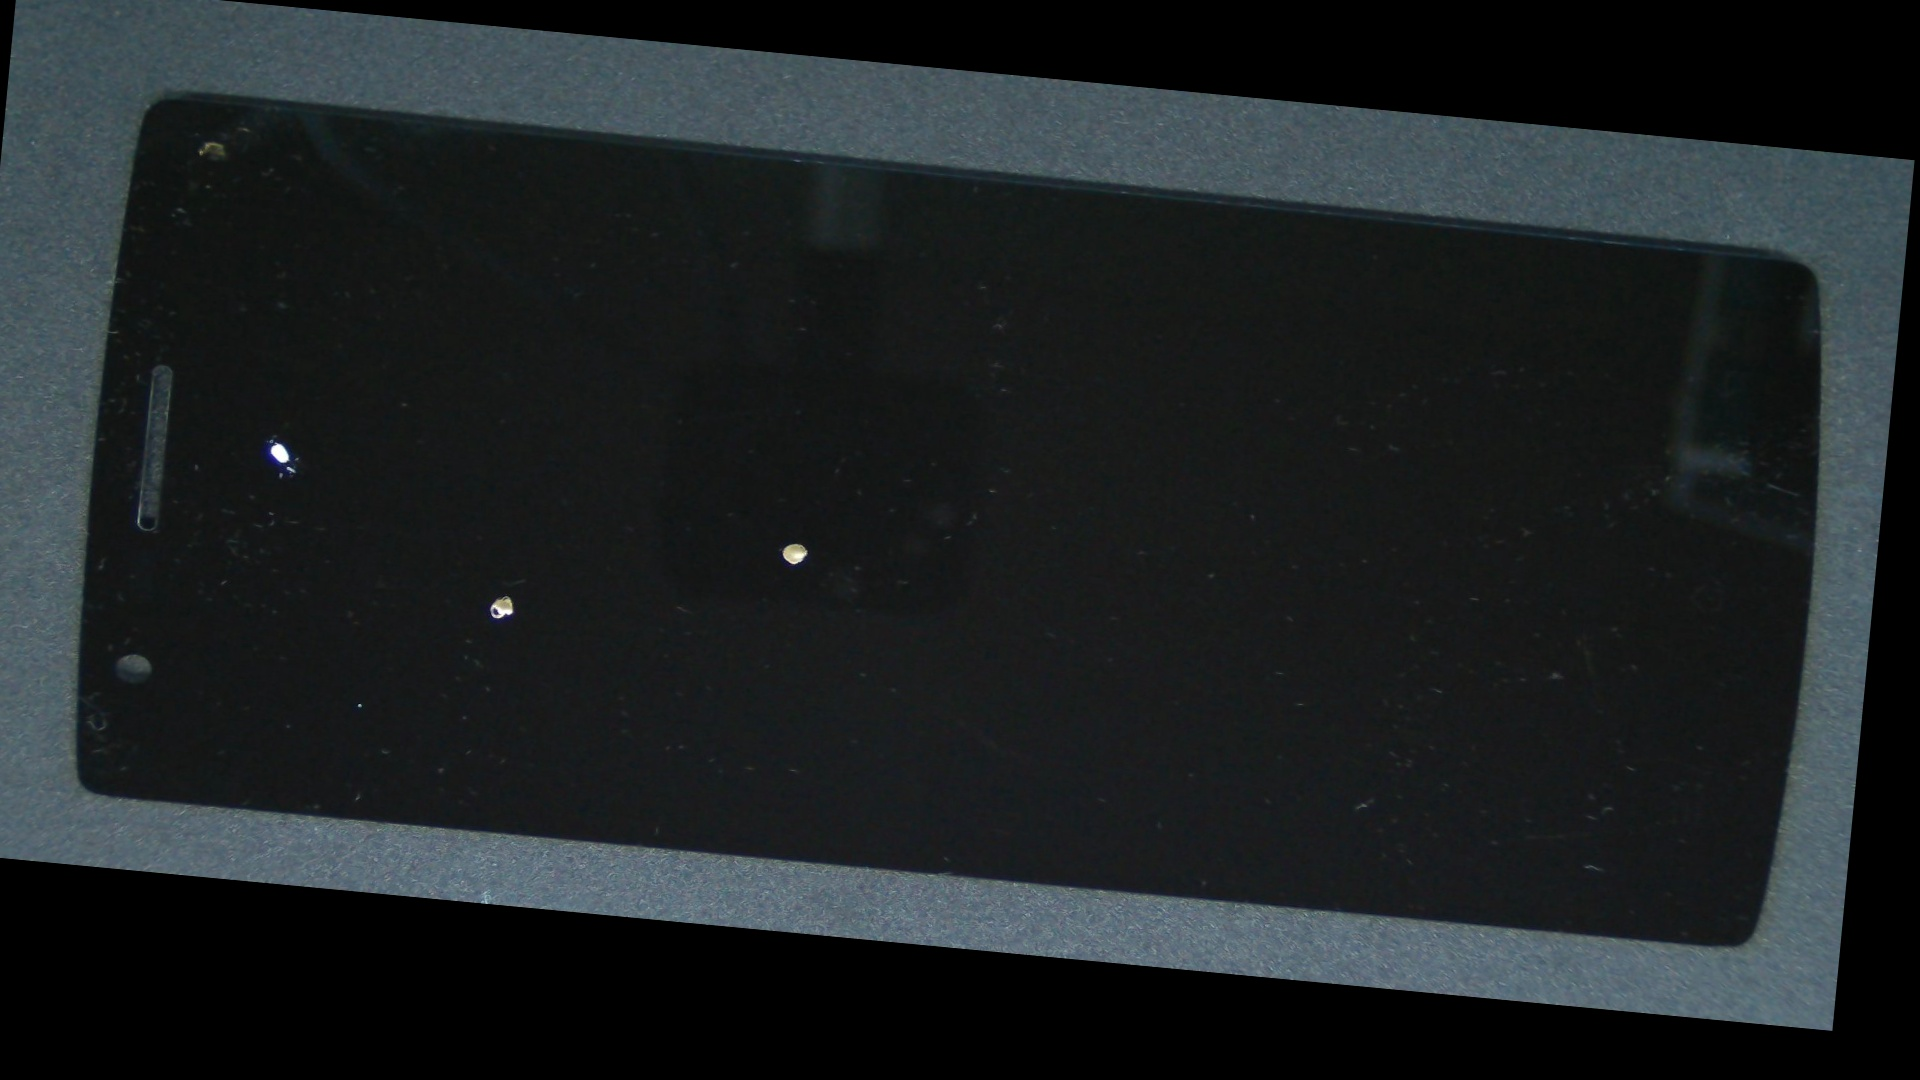oil: (359, 261, 1221, 823), (210, 287, 804, 901), (108, 207, 446, 661)
